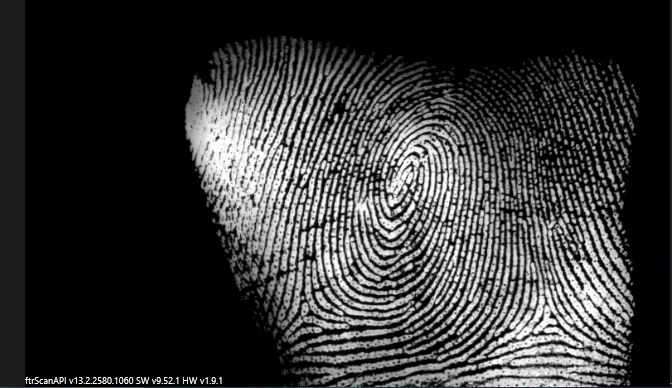nucelo: (377, 146, 430, 217)
verticilo: (292, 289, 322, 333), (530, 302, 562, 339)
